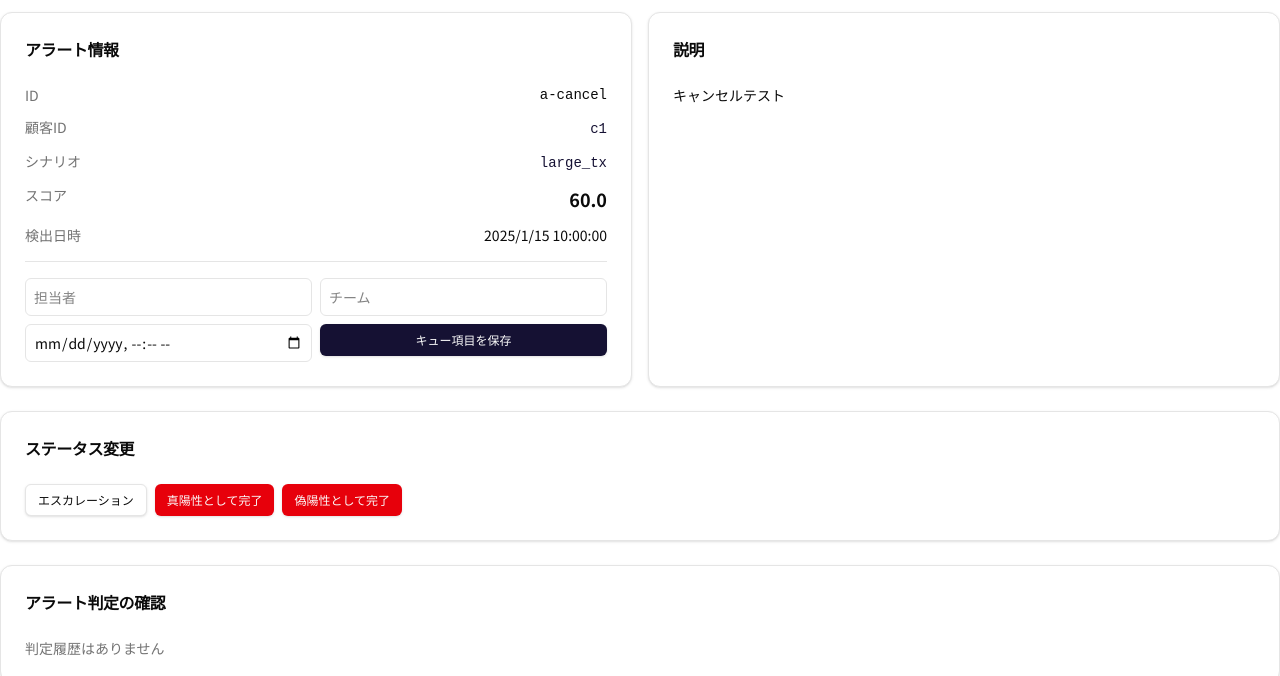
Test: canceling an alert decision does not send a mutation
Expected: the text "キャンセルテスト" is shown, [673, 85, 785, 105]
Click the button "真陽性として完了" at (215, 500), box [155, 484, 274, 516]
(page scrolled)
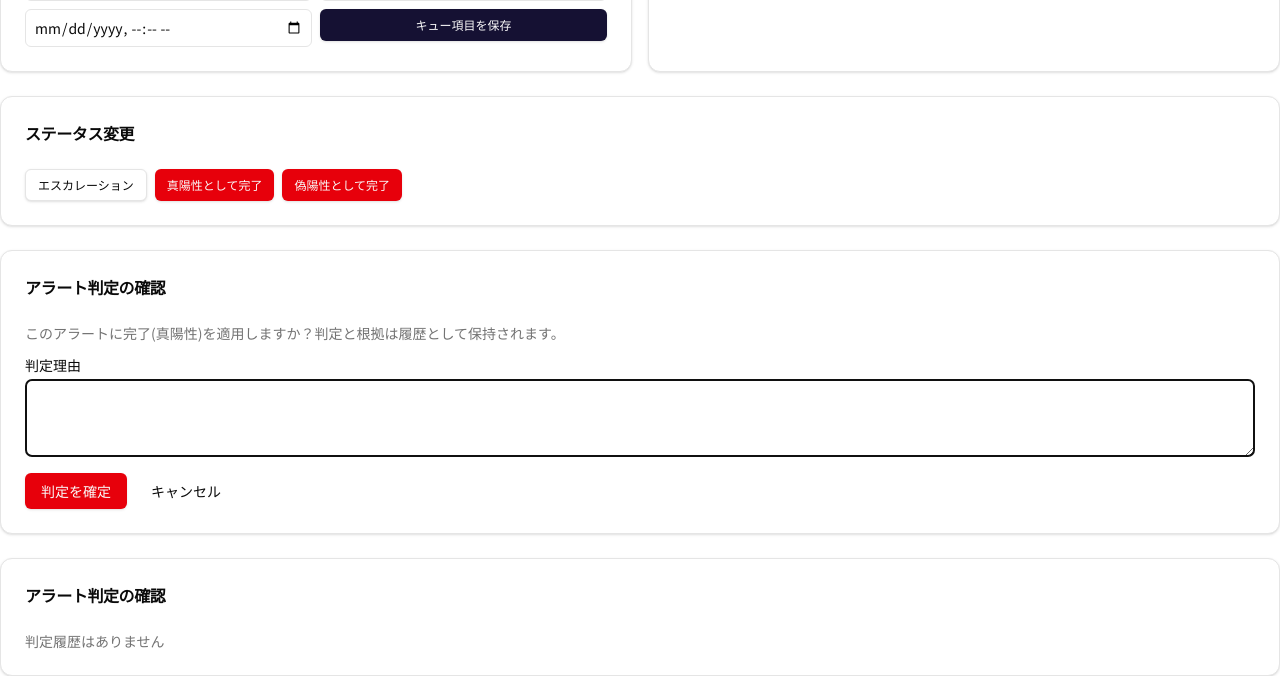
Click the button "キャンセル" at (186, 491), box [135, 473, 237, 509]
(page scrolled)
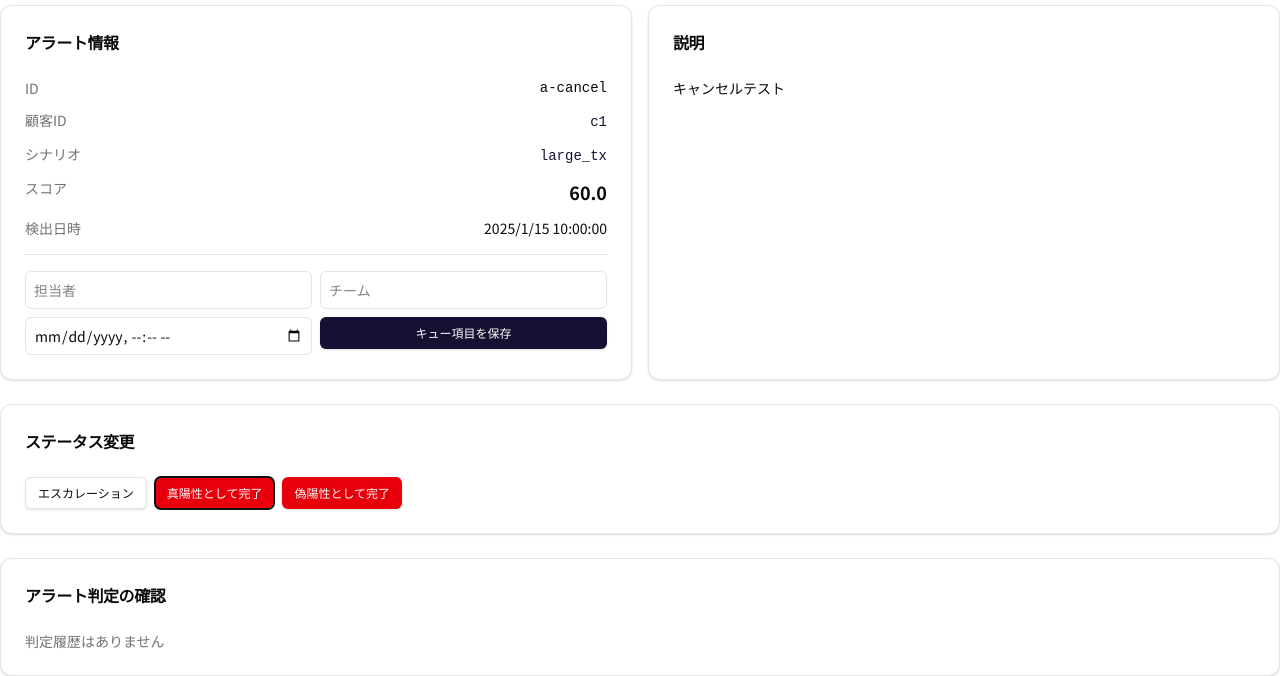
Expected: the dialog is gone
